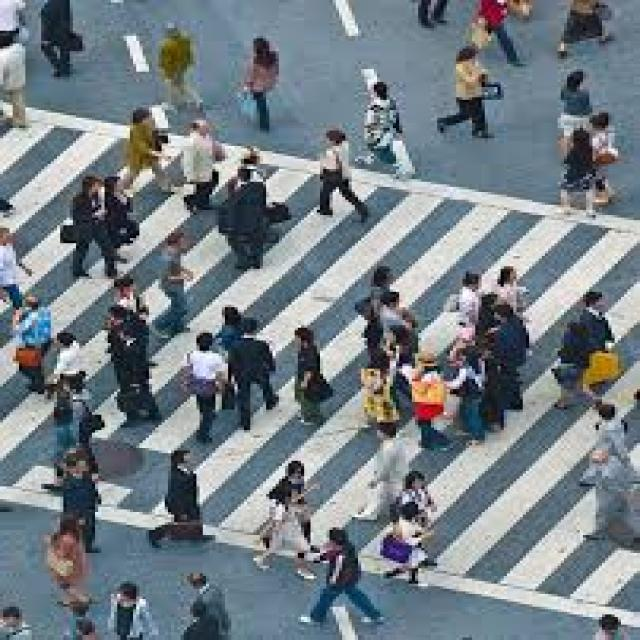Pedestrians: (307, 527, 393, 625), (260, 458, 323, 581), (146, 450, 222, 550), (554, 115, 614, 215), (285, 325, 339, 433), (181, 330, 231, 443), (146, 18, 206, 110), (310, 126, 368, 220), (38, 512, 95, 602), (118, 105, 178, 189), (219, 166, 269, 266), (177, 118, 225, 215), (238, 28, 282, 128), (364, 82, 409, 177), (475, 3, 539, 69), (444, 49, 491, 138), (551, 2, 618, 62), (390, 502, 434, 589), (156, 228, 193, 328), (178, 563, 232, 630), (3, 18, 32, 133), (105, 581, 155, 638), (551, 64, 596, 118), (393, 469, 431, 499)
